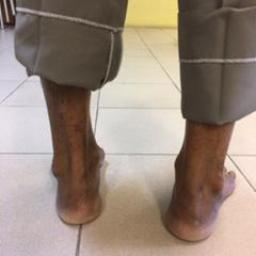Back View -Both Feet-: (30, 122, 247, 252)
